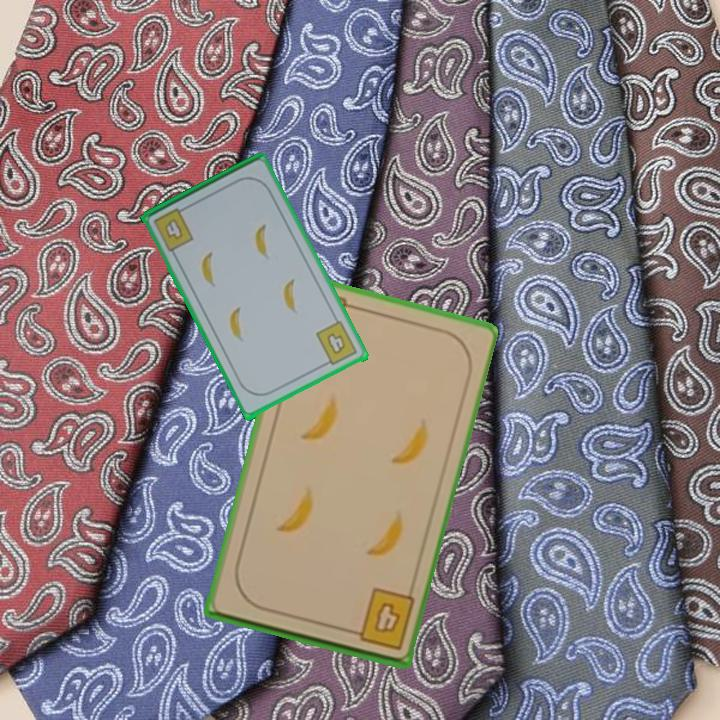4b: (343, 584, 418, 653), (313, 318, 361, 369), (150, 203, 197, 254)
